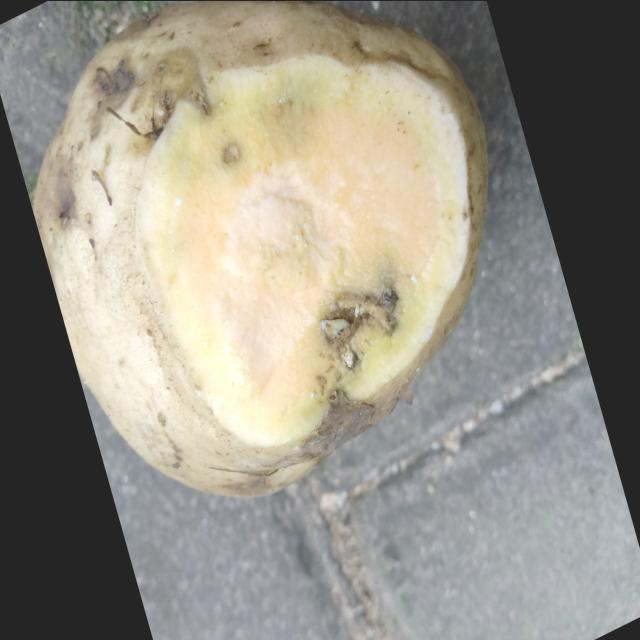Sick Sweet Potato_Tuber Rot: (136, 53, 486, 447)
